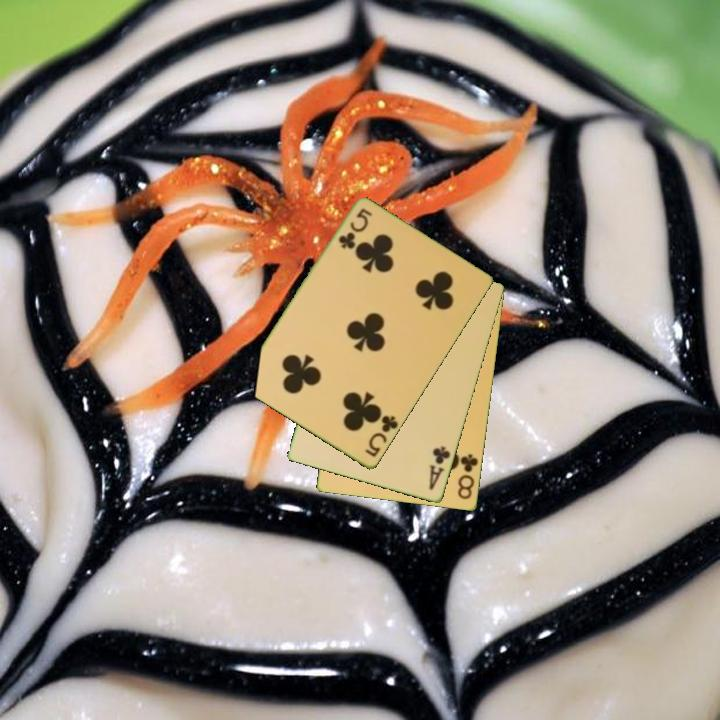5c: (362, 411, 401, 460), (335, 205, 375, 252)
8c: (454, 451, 481, 503)
Ac: (426, 443, 454, 493)
